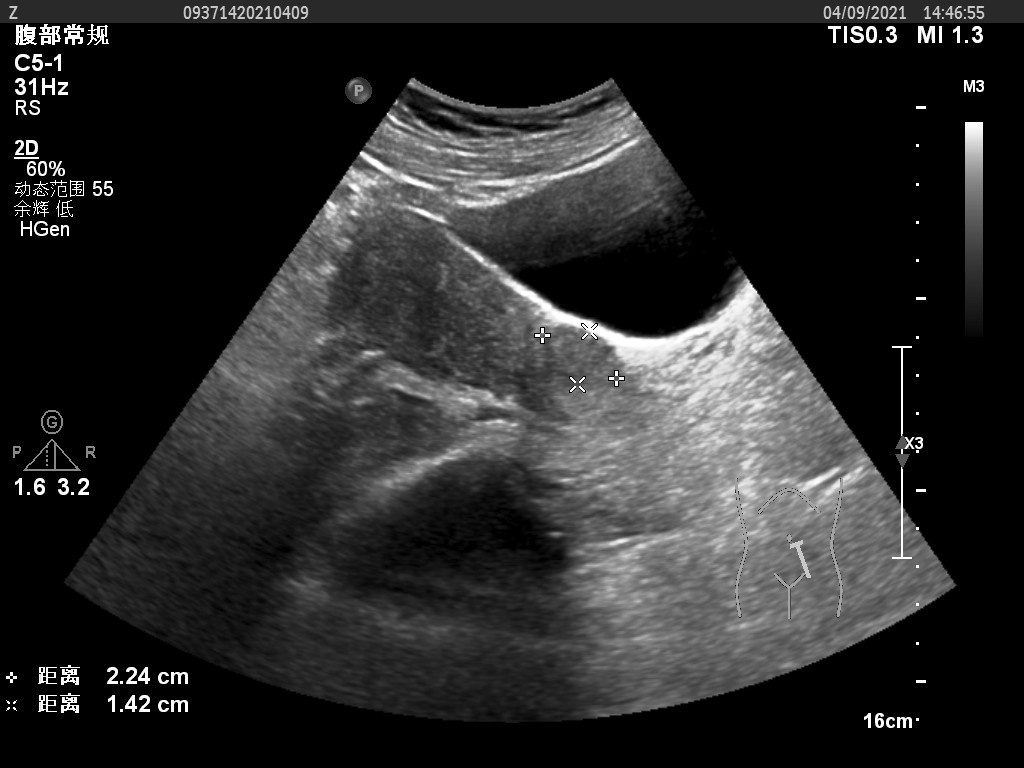肌瘤: (547, 338, 618, 389)
